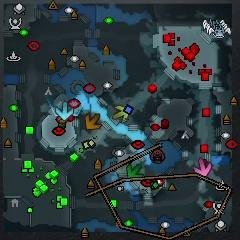x1: (195, 158, 212, 177)
x2: (113, 105, 128, 122)
x3: (55, 101, 74, 120)
x4: (127, 163, 143, 178)
x5: (86, 113, 101, 130)
